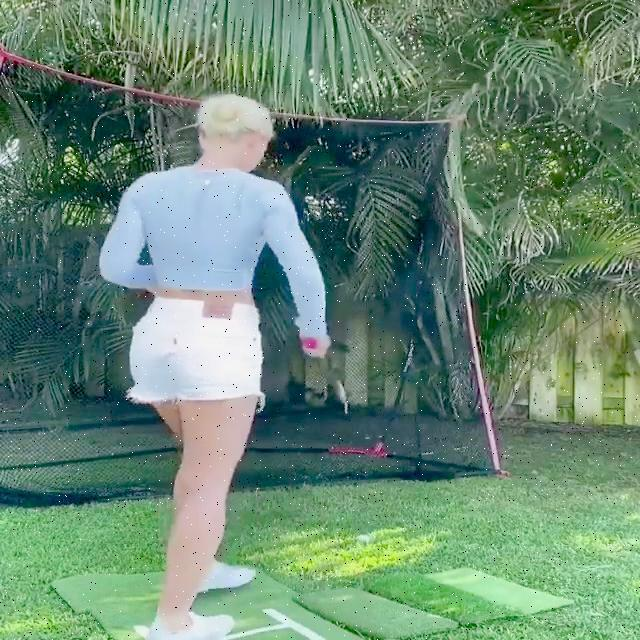golf ball: (346, 533, 376, 548)
golf club-handle: (302, 331, 389, 439)
golf club-head: (316, 438, 409, 460)
